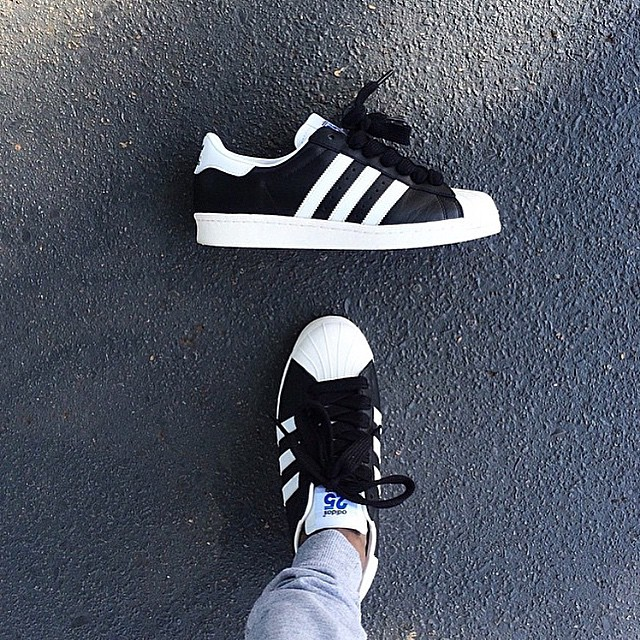sneaker: (255, 294, 422, 606)
